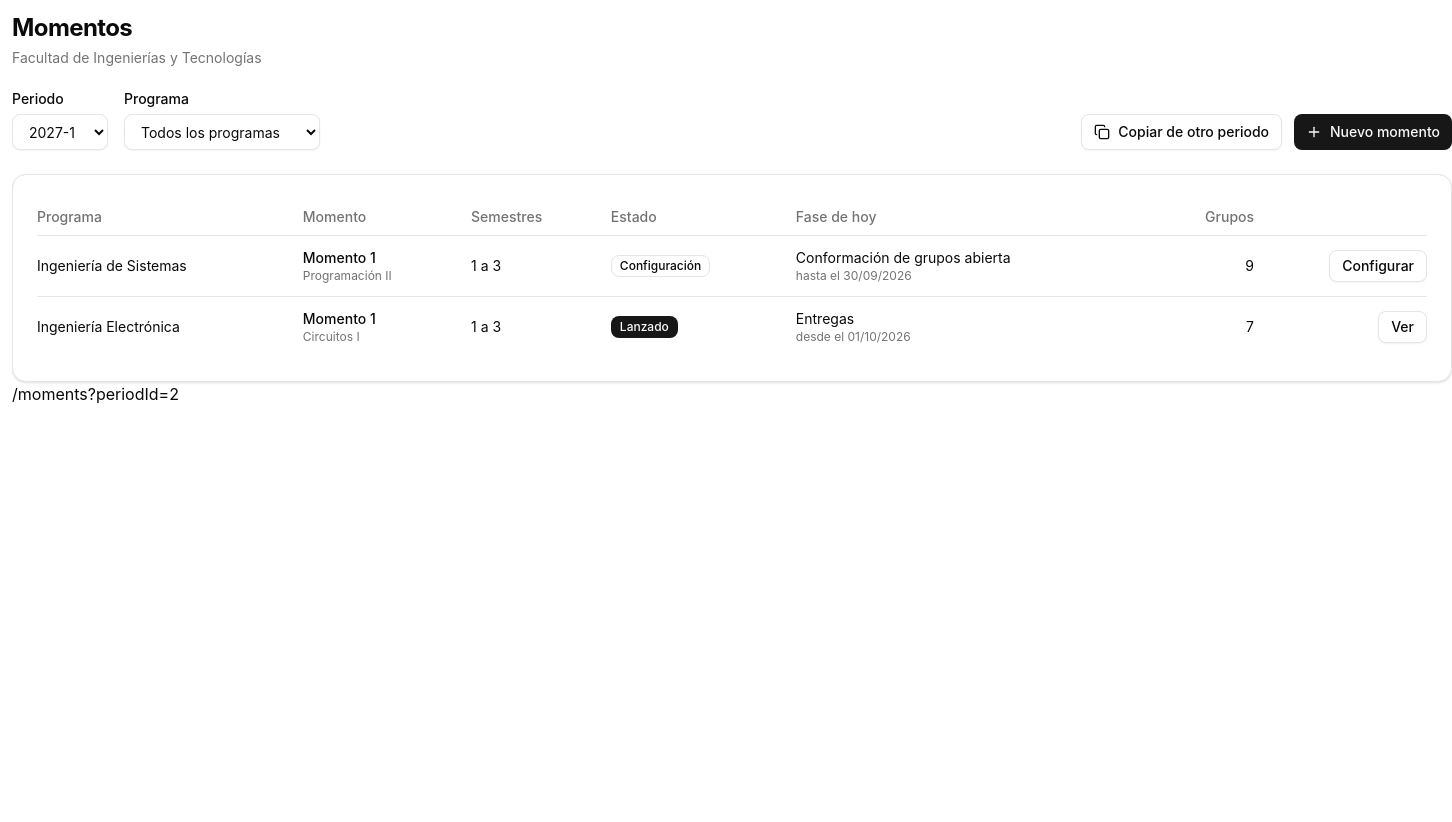
Scenario: MomentsPage › copies the configuration of another period and reloads the list
Click the button "Copiar de otro periodo".
click(1182, 132)  # box [1081, 114, 1282, 150]
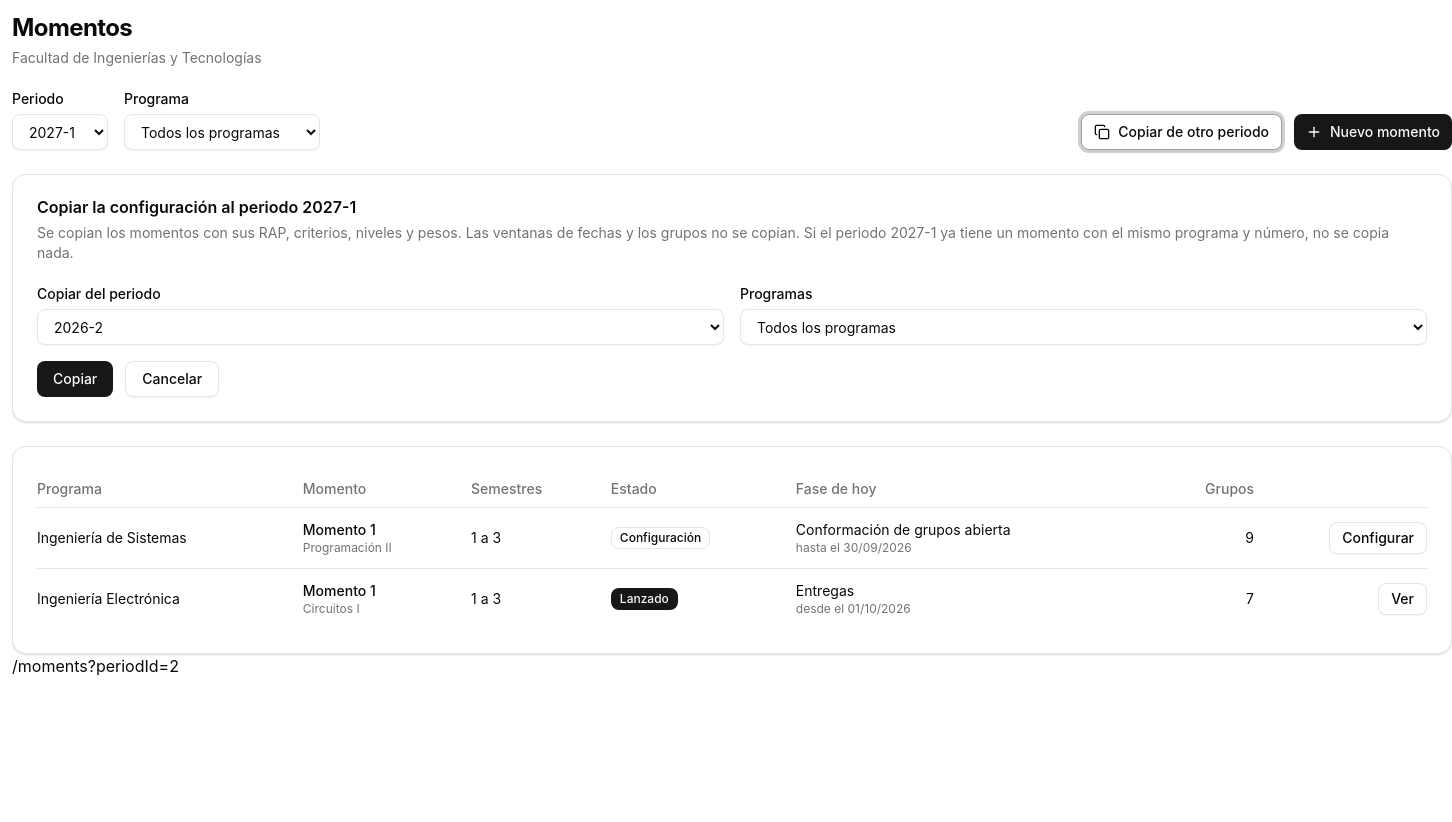
Expected: the text "Copiar la configuración al periodo 2027-1" is shown, [37, 197, 356, 217]
Select "Ingeniería de Sistemas" in the dropdown labelled "Programas" at (1084, 327), box [740, 309, 1427, 345]
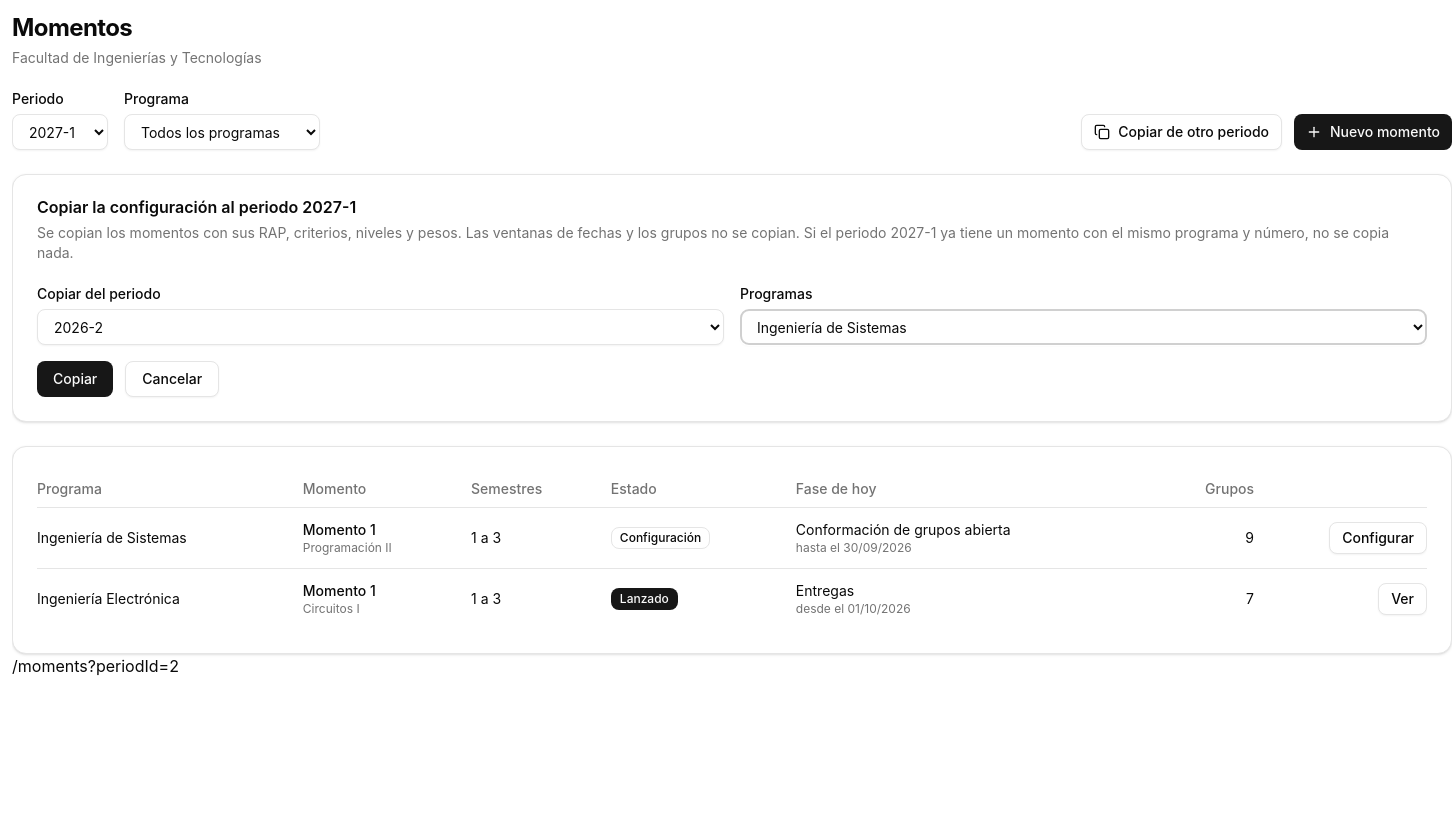
Click the button "Copiar".
click(75, 379)  # box [37, 361, 113, 397]
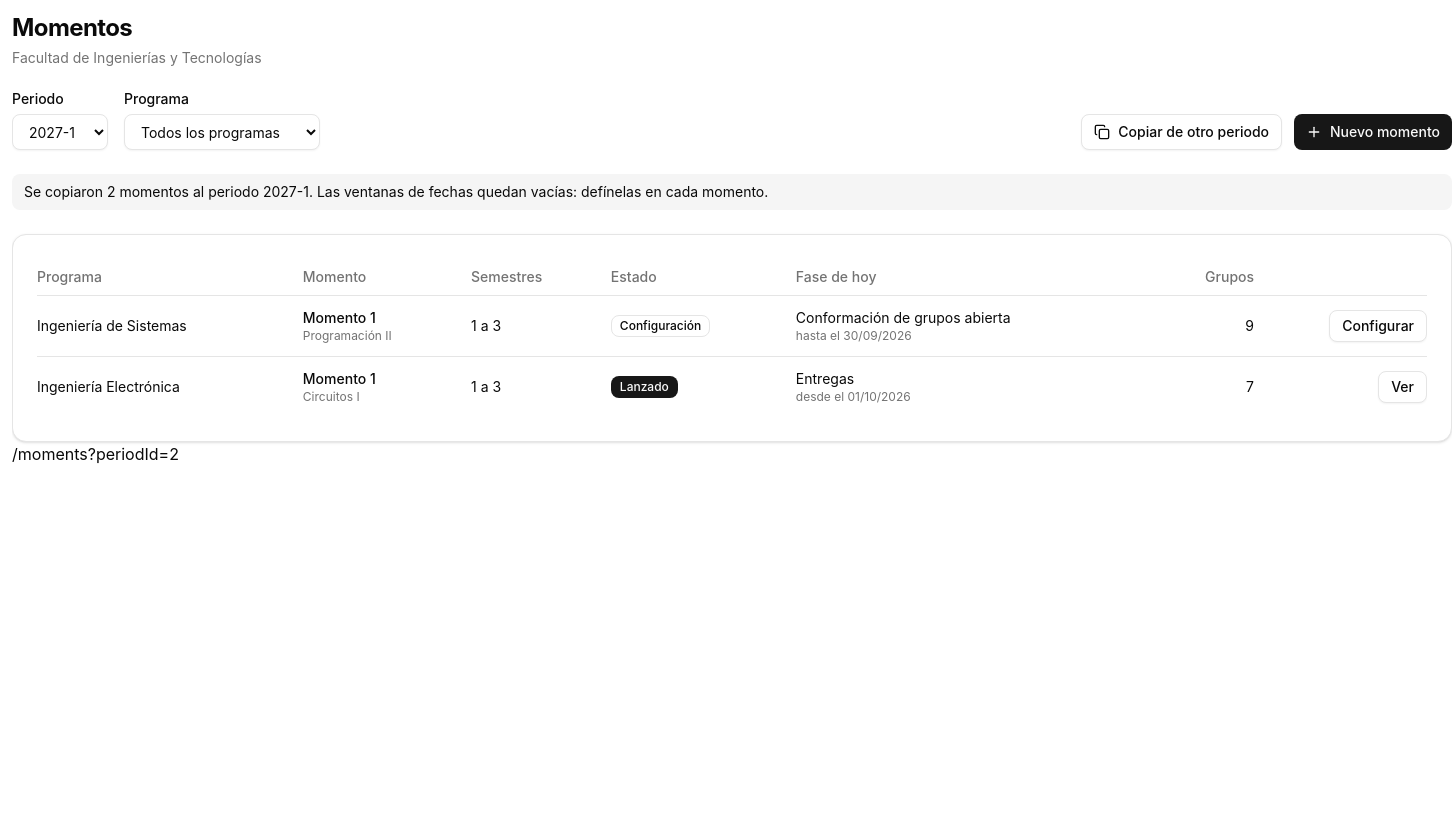
Expected: the message shows "Se copiaron 2 momentos al periodo 2027-1.", [24, 183, 768, 200]
